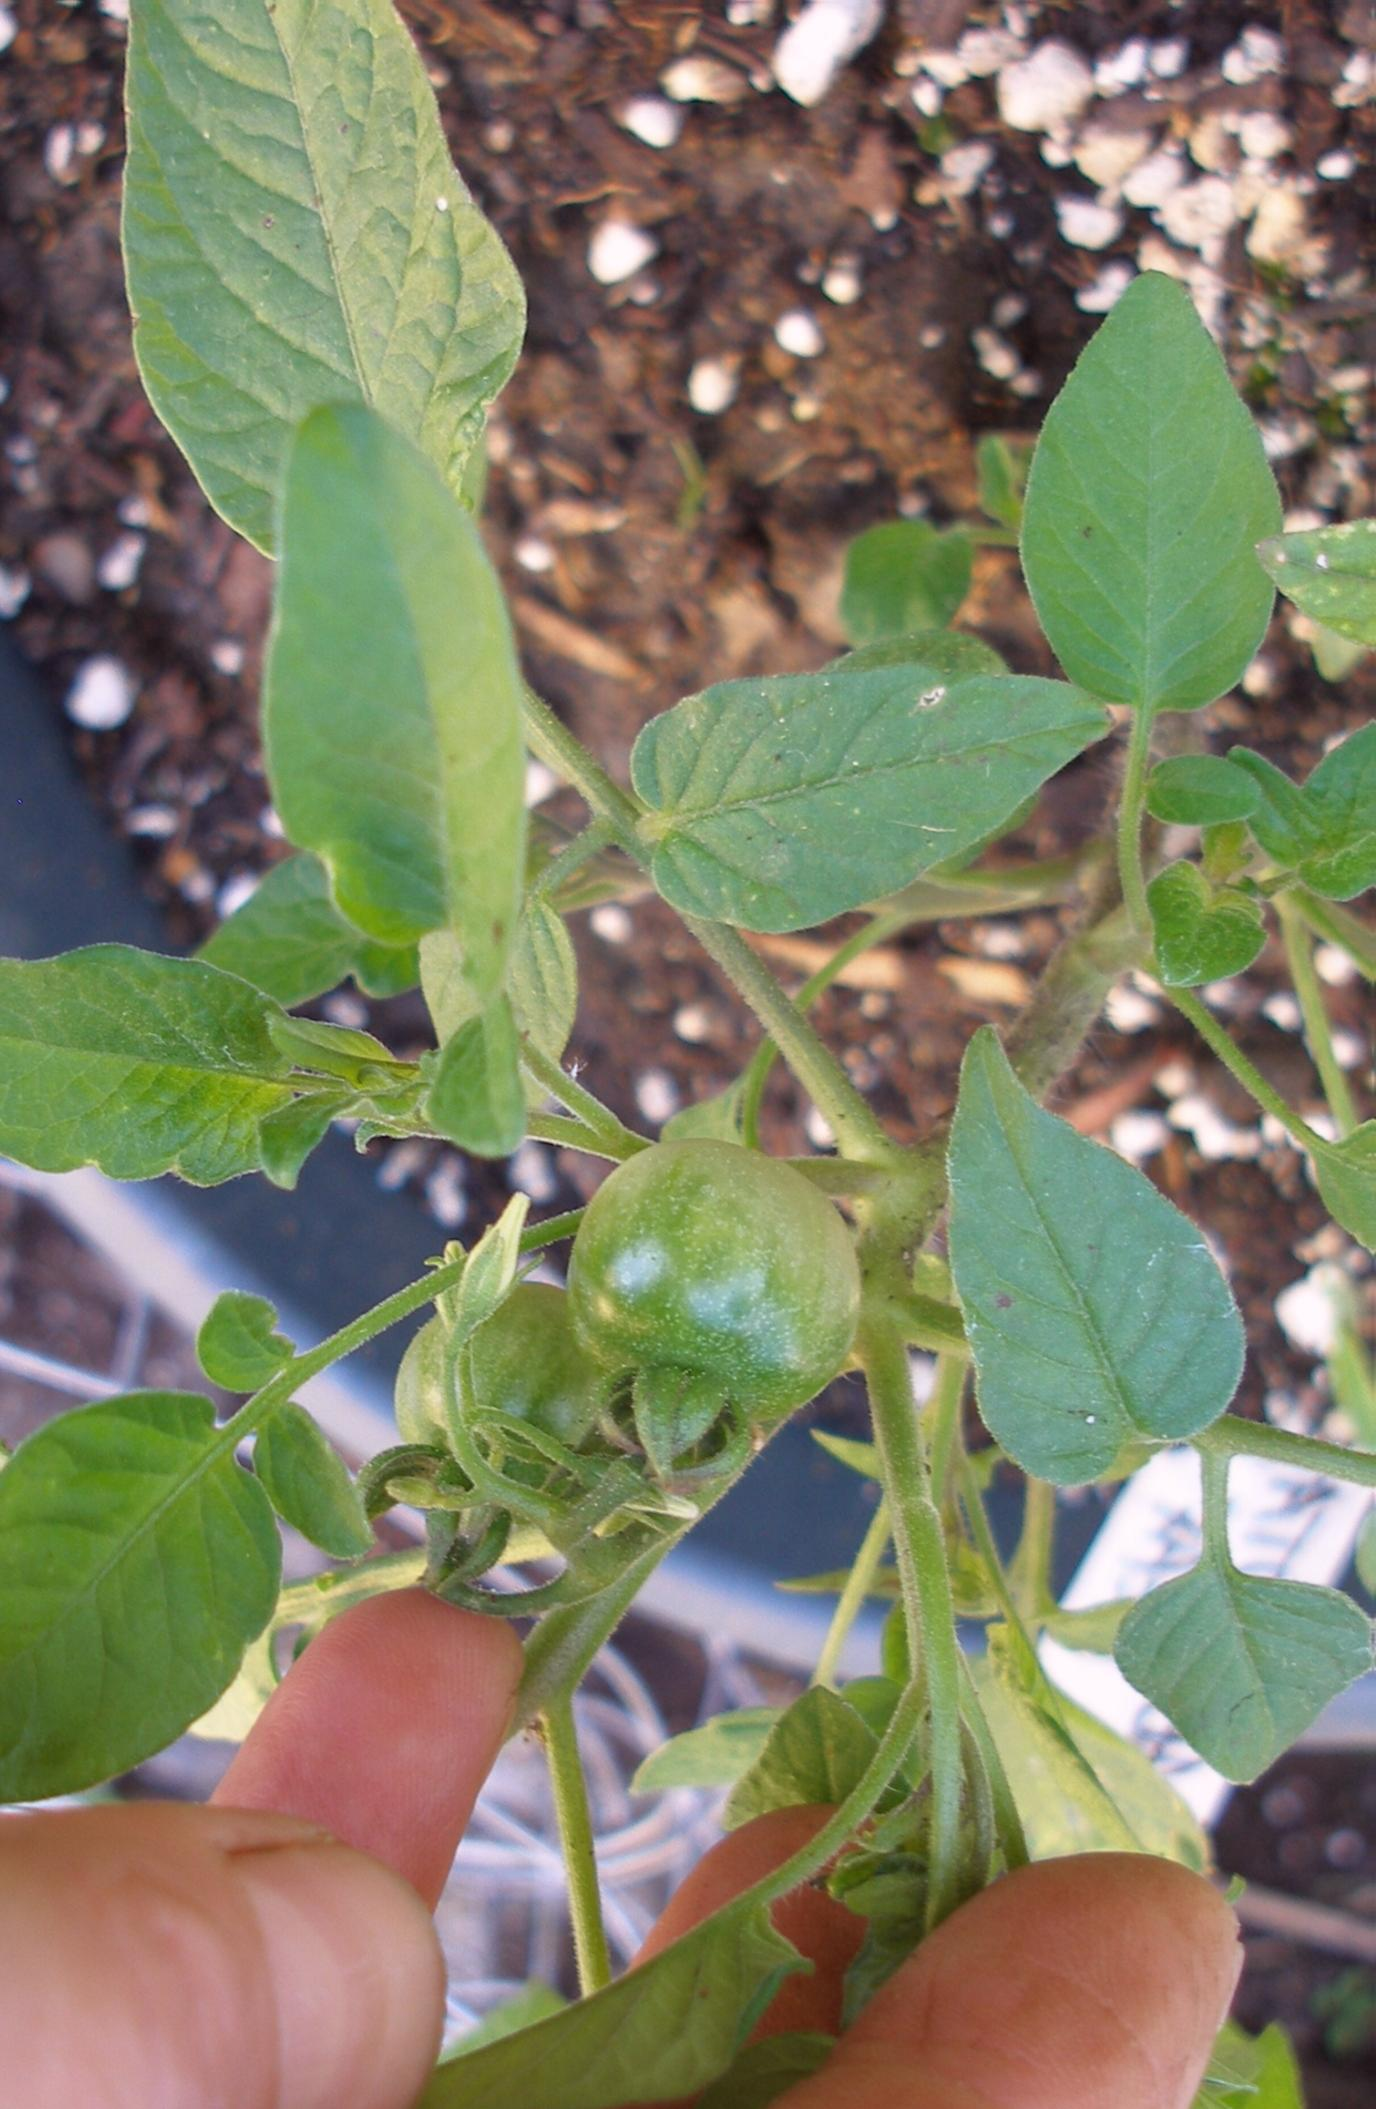Tomato leaf: (38, 0, 649, 601), (580, 581, 1122, 962), (0, 1300, 338, 1854), (876, 1073, 1301, 1490), (984, 223, 1324, 742), (254, 354, 526, 955), (0, 865, 246, 1277), (1188, 670, 1376, 939)
